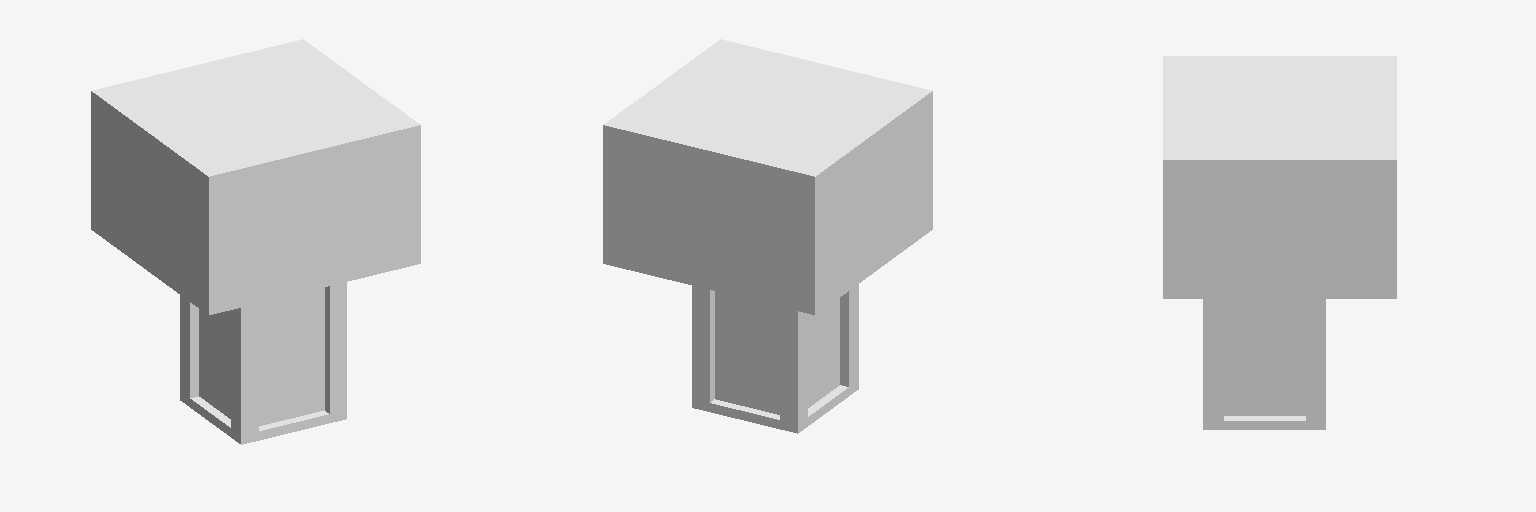
The model's file is CONCEPT_APRIX05_TREE01.obj.
3 renders of one model, left to right at view 1: azimuth 30°, elevation 25°; view 2: azimuth 150°, elevation 25°; view 3: azimuth 270°, elevation 25°, orthographic.
Bounding box in the file's own units: 24 × 32 × 23.